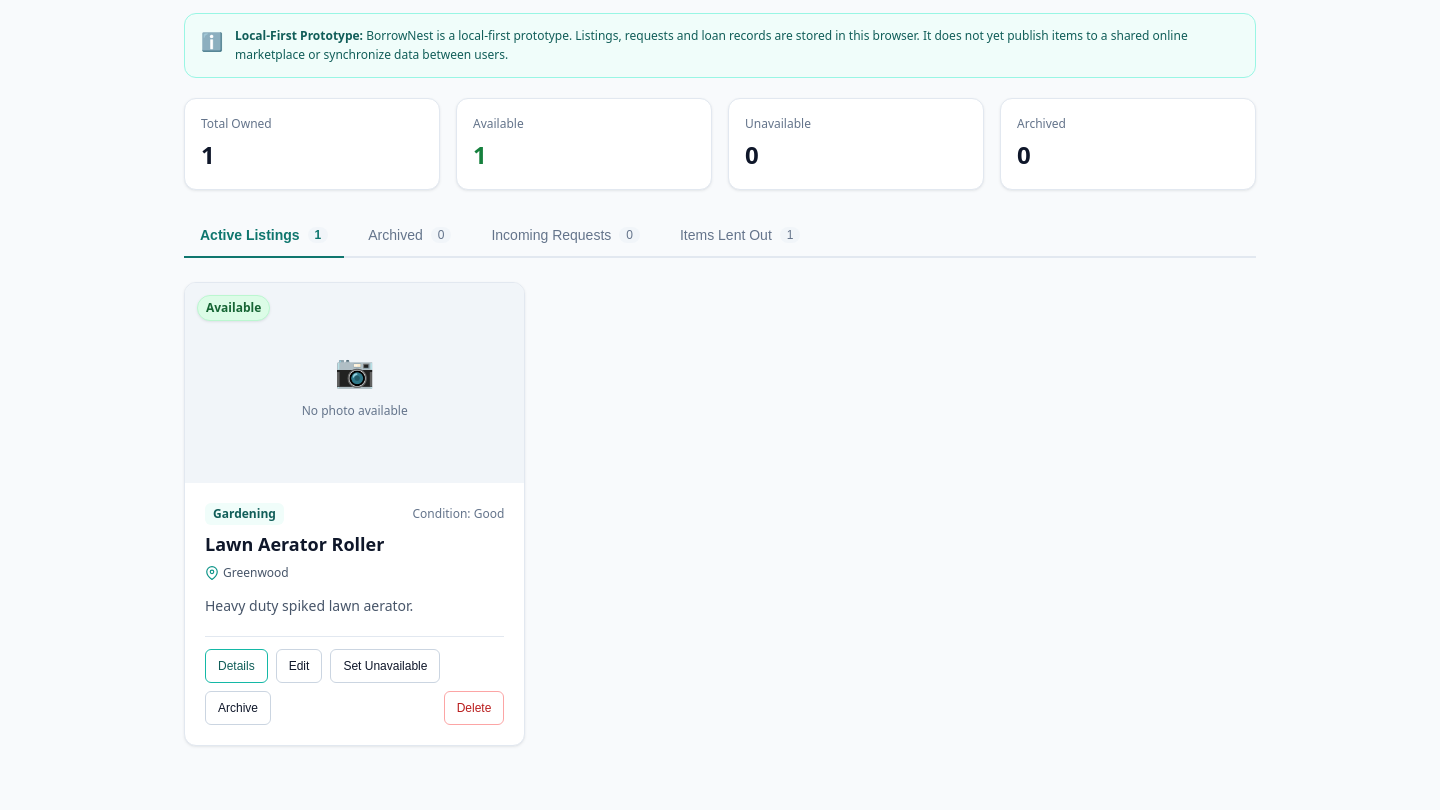
Test: LendingPage UI and Item Lifecycle › blocks archiving item with active approved reservation and displays error
This screenshot has width=1440, height=810.
(page scrolled)
Check: the heading "Lawn Aerator Roller" is shown, box [205, 532, 384, 556]
Note: Attempt to archive
Click the button with aria-label "Archive Lawn Aerator Roller" at x=238, y=708, box [205, 690, 271, 724]
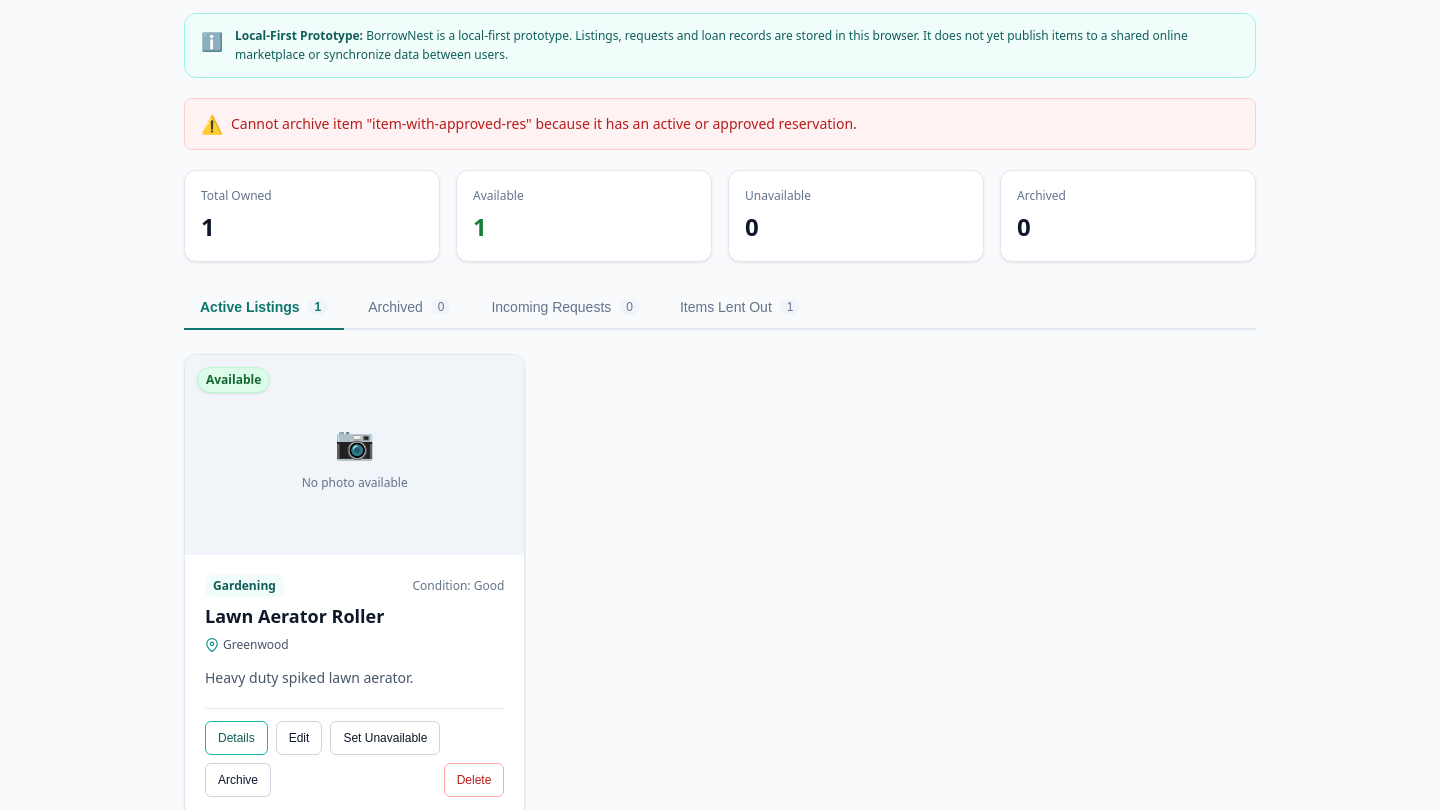
Check: the message shows "active or approved reservation", box [231, 114, 857, 133]
